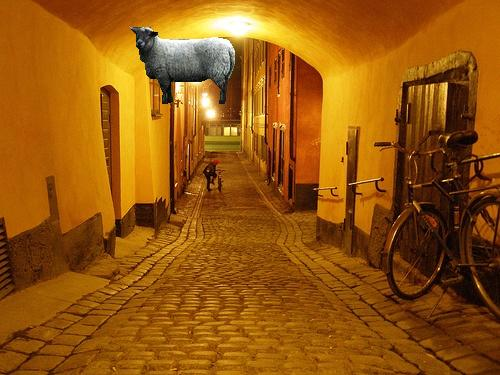tampered: (130, 27, 235, 104)
